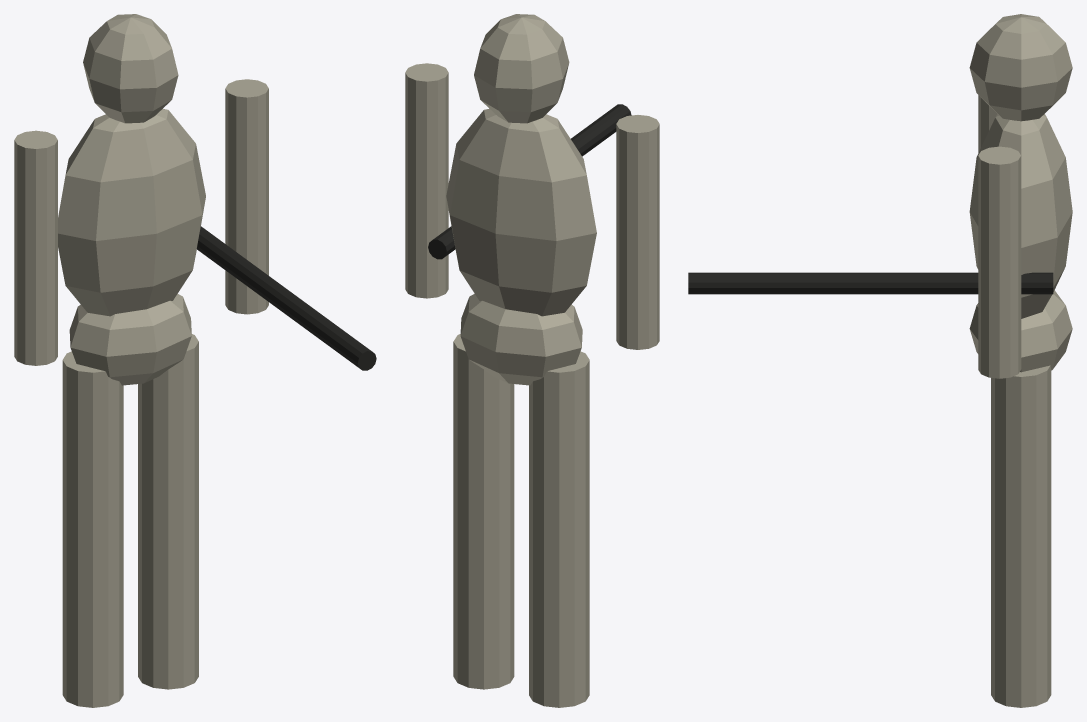
File: su_rifle.glb
3 renders of one model, left to right at view 1: azimuth 30°, elevation 25°; view 2: azimuth 150°, elevation 25°; view 3: azimuth 270°, elevation 25°, orthographic.
Visible parts, largest first — view 1: Torso, Leg_L, Leg_R, Arm_L, Arm_R, Head, Pelvis, Rifle; view 2: Torso, Leg_L, Leg_R, Arm_L, Arm_R, Head, Pelvis, Rifle; view 3: Leg_R, Arm_R, Torso, Head, Rifle, Pelvis.
Part boxes in pixels (left/top/right/bottom): Torso: left=58, top=109, right=205, bottom=316; Leg_L: left=62, top=351, right=123, bottom=707; Leg_R: left=138, top=334, right=198, bottom=689; Arm_L: left=14, top=130, right=57, bottom=365; Arm_R: left=225, top=79, right=268, bottom=314; Head: left=83, top=14, right=178, bottom=123; Pelvis: left=69, top=294, right=191, bottom=385; Rifle: left=197, top=226, right=376, bottom=370; Torso: left=446, top=108, right=596, bottom=316; Leg_L: left=529, top=351, right=589, bottom=707; Leg_R: left=453, top=334, right=514, bottom=689; Arm_L: left=616, top=115, right=659, bottom=349; Arm_R: left=405, top=63, right=448, bottom=298; Head: left=474, top=14, right=569, bottom=123; Pelvis: left=460, top=293, right=582, bottom=385; Rifle: left=428, top=104, right=631, bottom=259; Leg_R: left=991, top=365, right=1051, bottom=707; Arm_R: left=978, top=146, right=1021, bottom=378; Torso: left=969, top=114, right=1072, bottom=318; Head: left=969, top=14, right=1072, bottom=121; Rifle: left=688, top=272, right=1053, bottom=294; Pelvis: left=969, top=290, right=1072, bottom=372.
Bounding box in the file's own units: 0.66 × 1.7 × 0.895.
